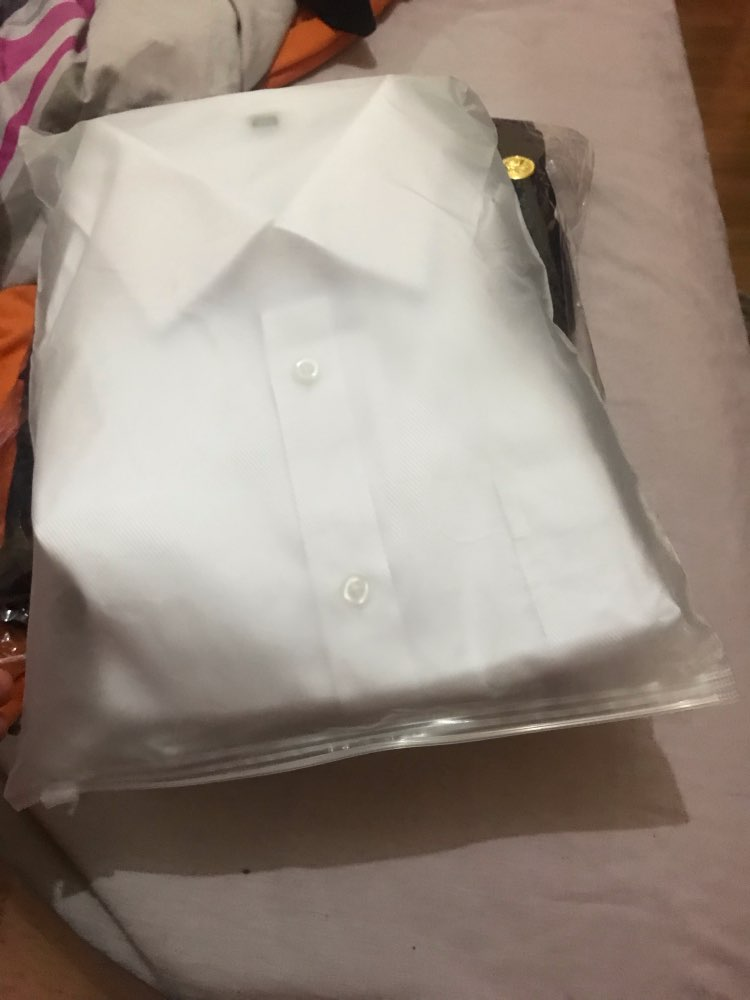shirts: (42, 107, 665, 729)
